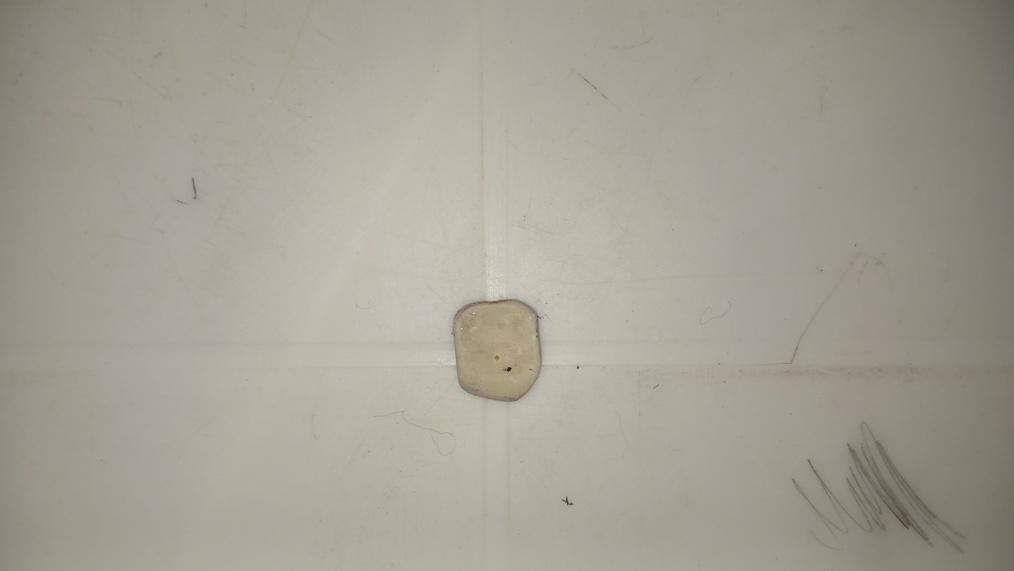Eraser: (453, 297, 545, 404)
